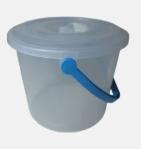SEAU: (1, 1, 137, 146)
